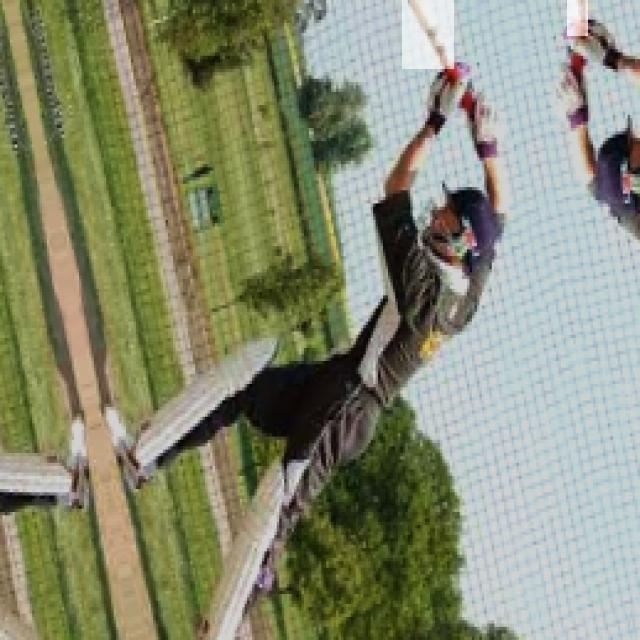bat: (402, 0, 456, 67)
